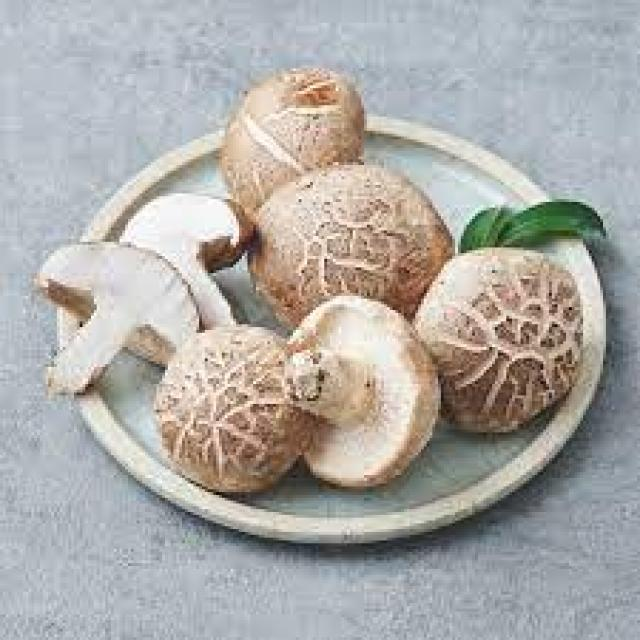Mushroom: (415, 247, 583, 435), (287, 296, 444, 489), (154, 327, 313, 495)
